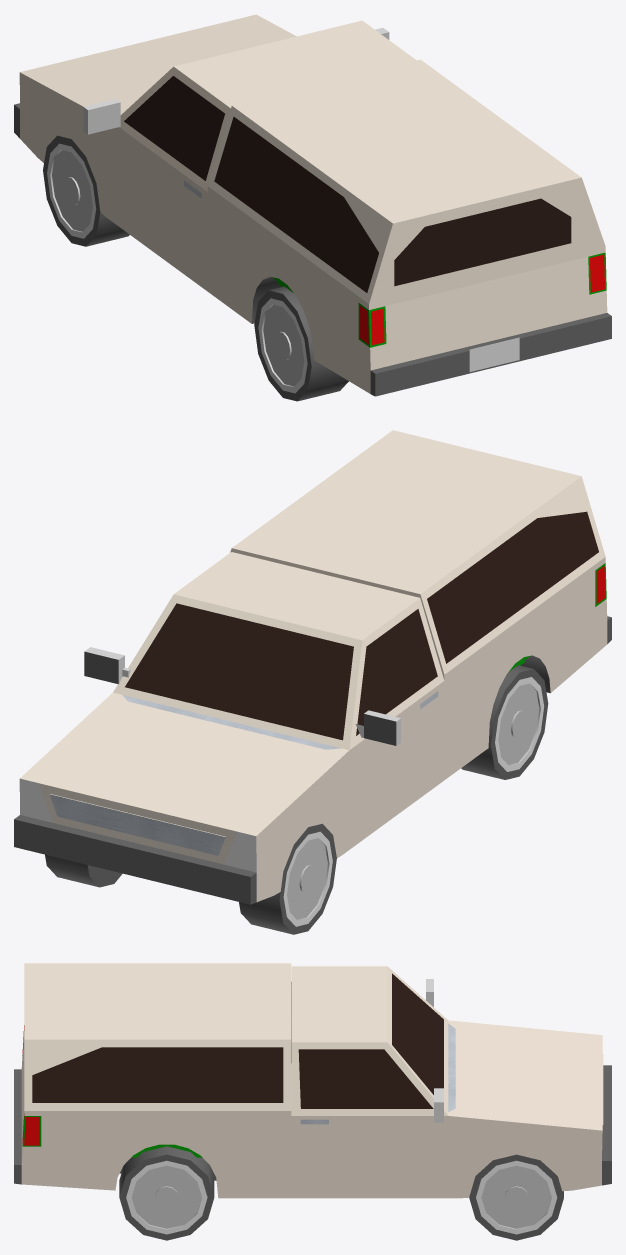
Rendered from car06.glb.
3 renders of one model, top to bottom at view 1: azimuth 30°, elevation 25°; view 2: azimuth 150°, elevation 25°; view 3: azimuth 270°, elevation 25°, orthographic. The views are drawn at different scales.
Parts seen in each view (by area): view 1: Geom3D (×12), Geom3D_Simple small pickup truck; view 2: Geom3D (×14); view 3: Geom3D (×12), Geom3D_Simple small pickup truck.
Part boxes in pixels (x1,y1,x2,y2): Geom3D (×12): (14,14,611,401); Geom3D_Simple small pickup truck: (102,214,606,347); Geom3D (×14): (14,430,611,934); Geom3D (×12): (14,963,611,1240); Geom3D_Simple small pickup truck: (22,982,291,1157).
Size of the model in its own units: 2.41 by 1.74 by 4.92.
10 materials, 1 textured.
